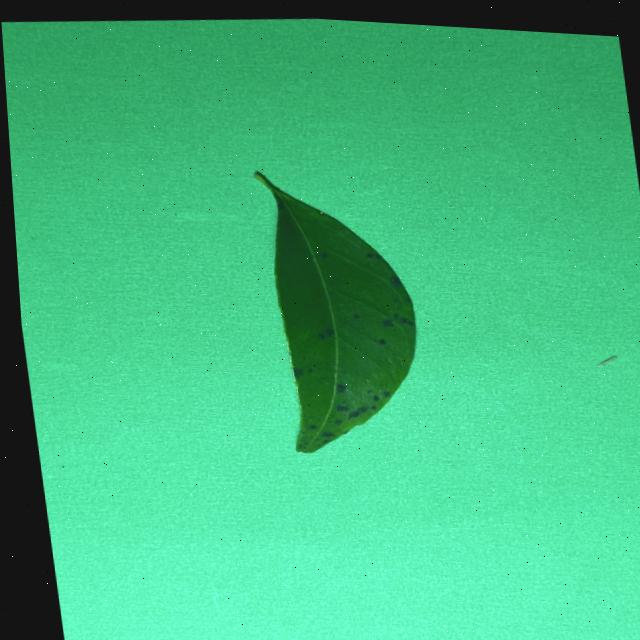sooty_mold: (255, 172, 415, 452)
